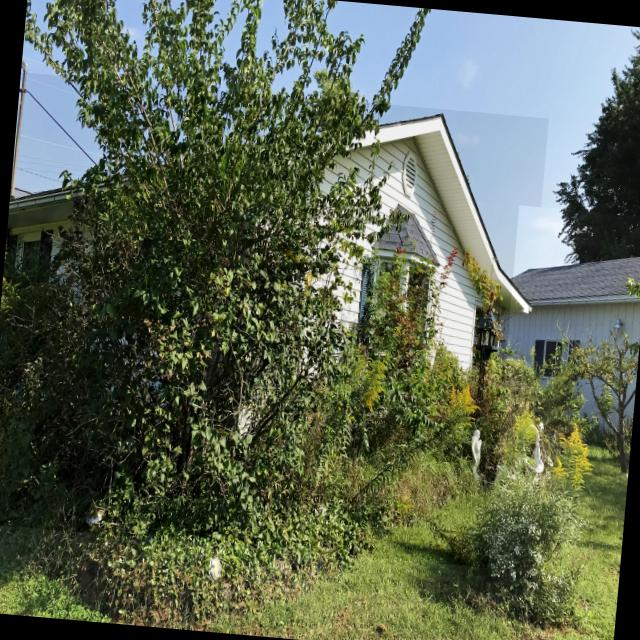House: (0, 72, 548, 569), (484, 205, 640, 615)
